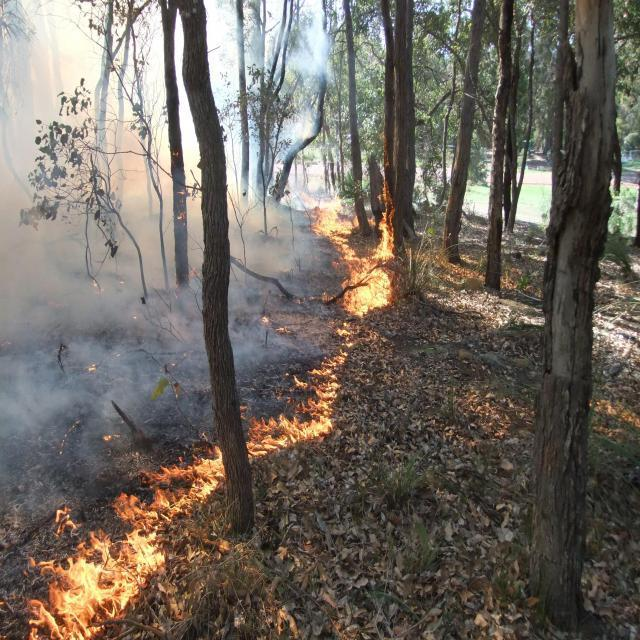Fire: (10, 427, 246, 640), (222, 296, 400, 512), (7, 496, 185, 638), (296, 170, 416, 338)
